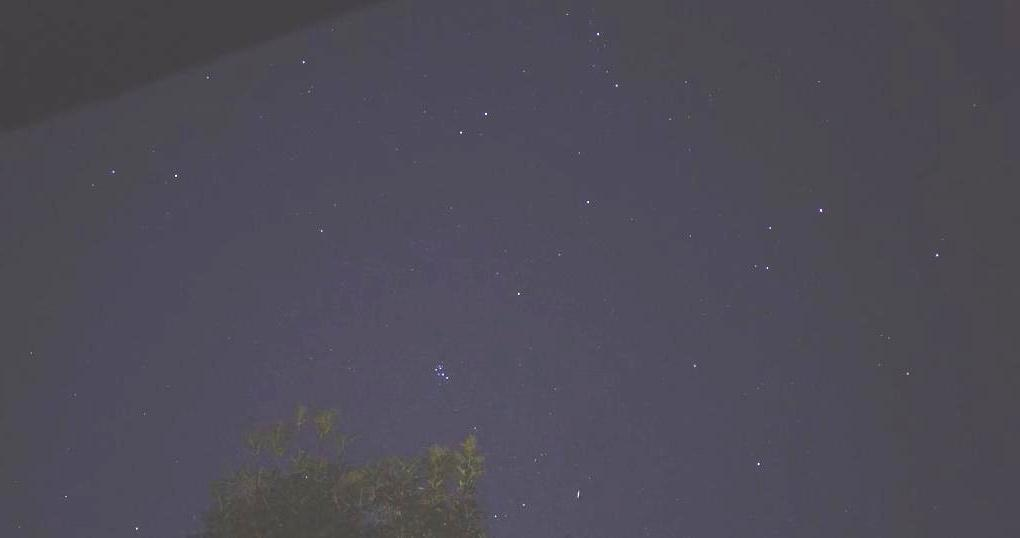meteorite: (563, 486, 593, 501)
